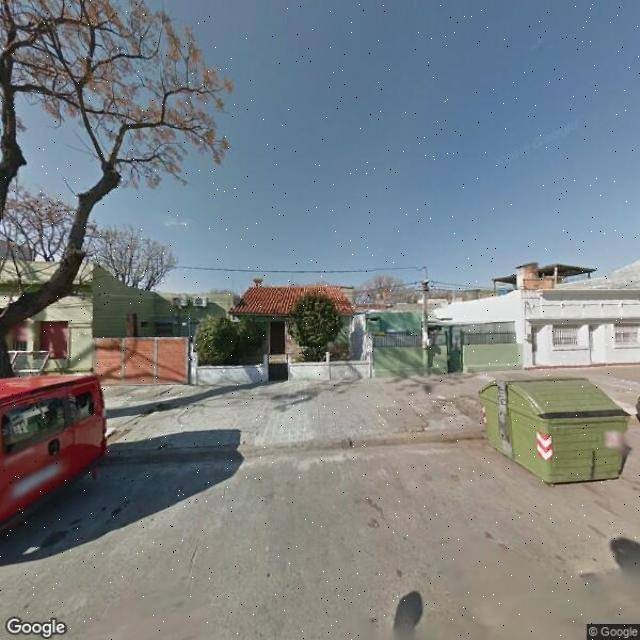garbage container: (470, 367, 638, 502)
